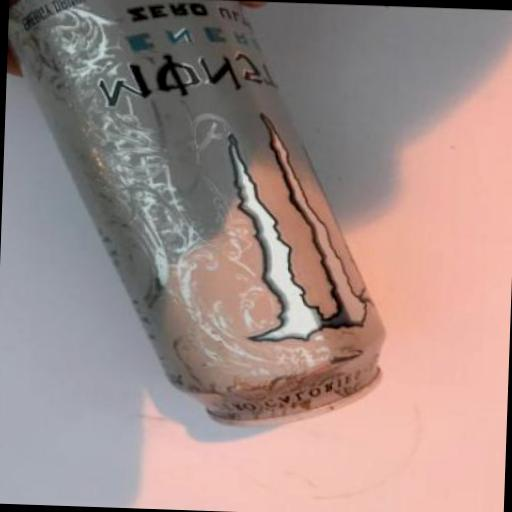metal: (0, 0, 397, 431)
